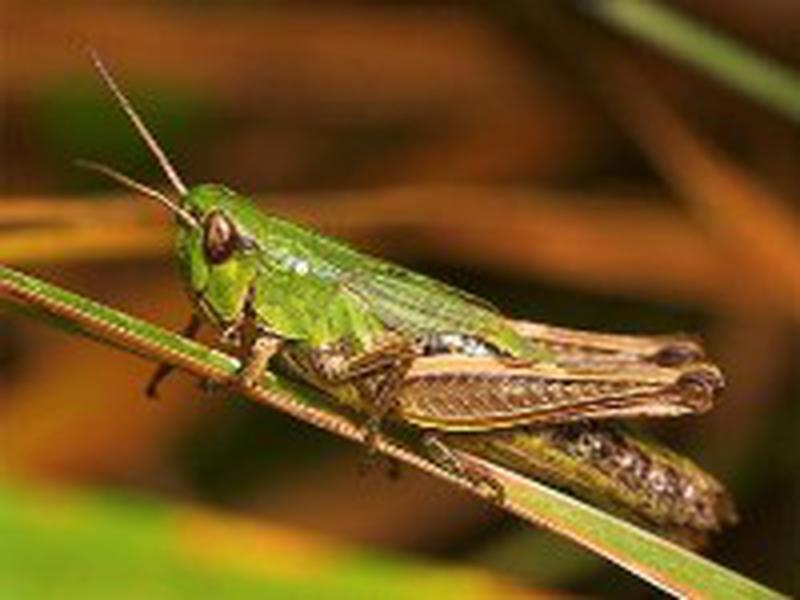Rice_earhead_bug: (115, 150, 762, 533)
